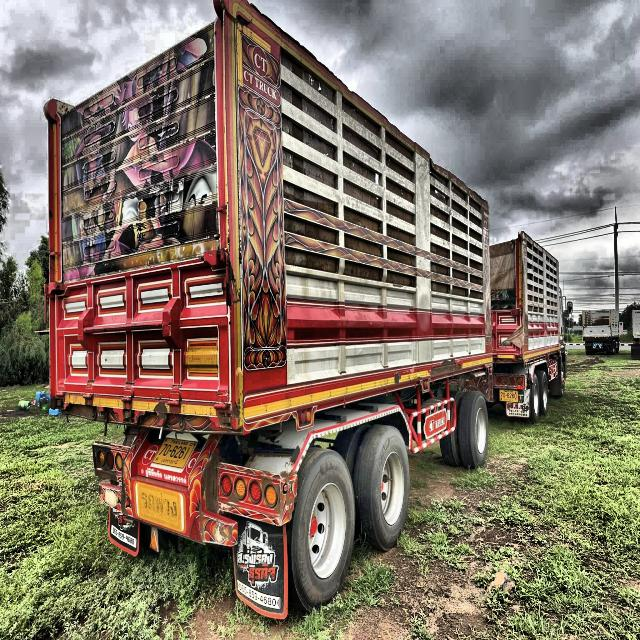trailer: (42, 0, 570, 611)
